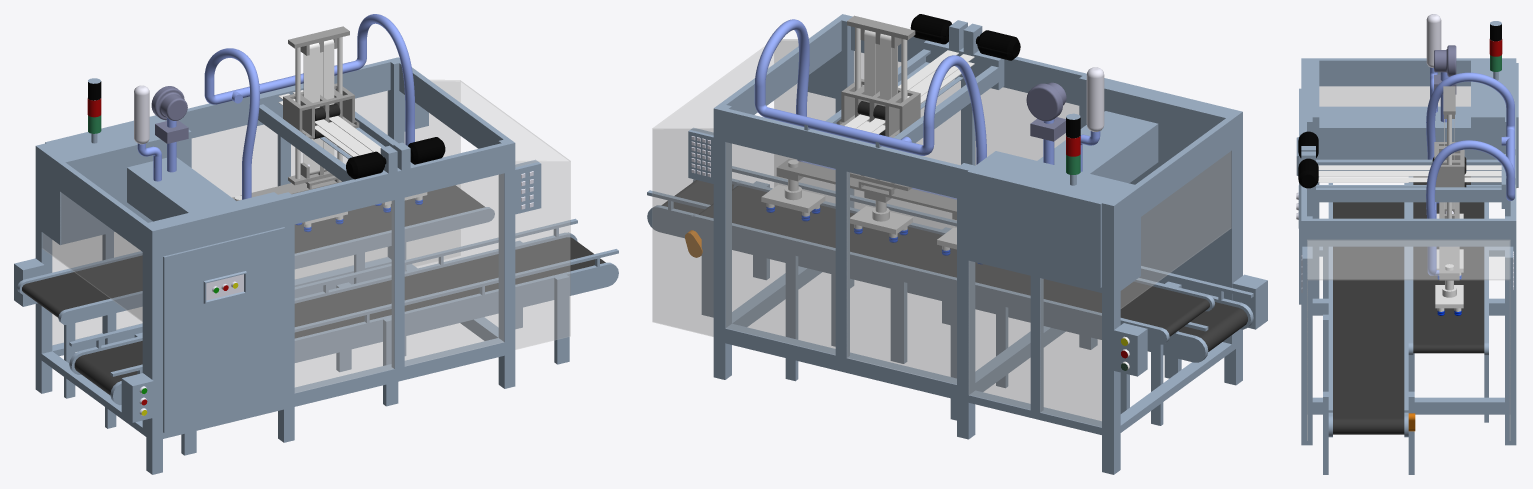
The model's file is Case Packer.glb.
3 views of the same model, side by side, from view 1: azimuth 30°, elevation 25°; view 2: azimuth 150°, elevation 25°; view 3: azimuth 270°, elevation 25° (orthographic). The views are drawn at different scales.
Parts seen in each view (by area): view 1: Solid1, Solid12, Solid4, Solid3, Solid6, Solid5, Solid7, Solid9, Solid2, Solid8; view 2: Solid12, Solid1, Solid6, Solid2, Solid3, Solid7, Solid4, Solid9, Solid8, Solid5; view 3: Solid1, Solid5, Solid3, Solid12, Solid6, Solid7, Solid9, Solid4, Solid8, Solid2.
Part boxes in pixels (x1,y1,x2,y2): Solid1: (14,57,541,474); Solid12: (42,80,570,392); Solid4: (69,218,618,455); Solid3: (35,85,236,245); Solid6: (17,185,494,428); Solid5: (74,237,605,395); Solid7: (232,26,445,231); Solid9: (204,14,414,199); Solid2: (121,192,283,437); Solid8: (278,39,380,175); Solid12: (652,39,1231,427); Solid1: (688,14,1242,474); Solid6: (688,181,1214,425); Solid2: (1104,78,1267,351); Solid3: (969,67,1158,295); Solid7: (761,14,1020,264); Solid4: (647,166,1253,413); Solid9: (754,19,986,199); Solid8: (844,30,974,134); Solid5: (661,180,1247,351); Solid1: (1296,21,1518,445); Solid5: (1333,202,1404,434); Solid3: (1319,14,1516,184); Solid12: (1307,86,1510,440); Solid6: (1408,176,1488,422); Solid7: (1298,86,1464,315); Solid9: (1426,72,1514,275); Solid4: (1323,183,1415,474); Solid8: (1318,119,1501,218); Solid2: (1296,58,1319,298).
Size of the model in its own units: 4.84 by 2.88 by 1.97.
22 materials, 2 textured.
